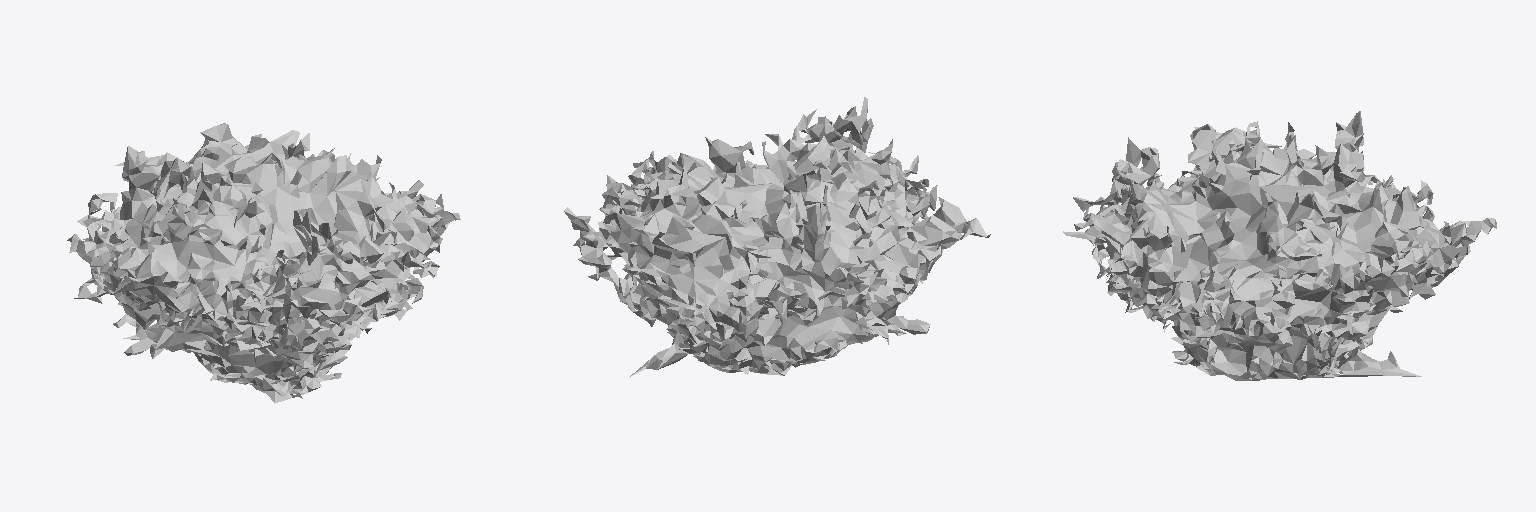
Rendered from bb18055b4edf_dry_desert_bush_min.obj.
3 renders of one model, left to right at view 1: azimuth 30°, elevation 25°; view 2: azimuth 150°, elevation 25°; view 3: azimuth 270°, elevation 25°, orthographic.
Visible parts, largest first — view 1: mesh; view 2: mesh; view 3: mesh.
Boxes of the visible parts, box(x1,y1,x2,y2) form: mesh: box(67, 123, 460, 403); mesh: box(564, 97, 990, 377); mesh: box(1063, 111, 1496, 380).
Bounding box in the file's own units: 0.99 × 0.5522 × 0.9997.